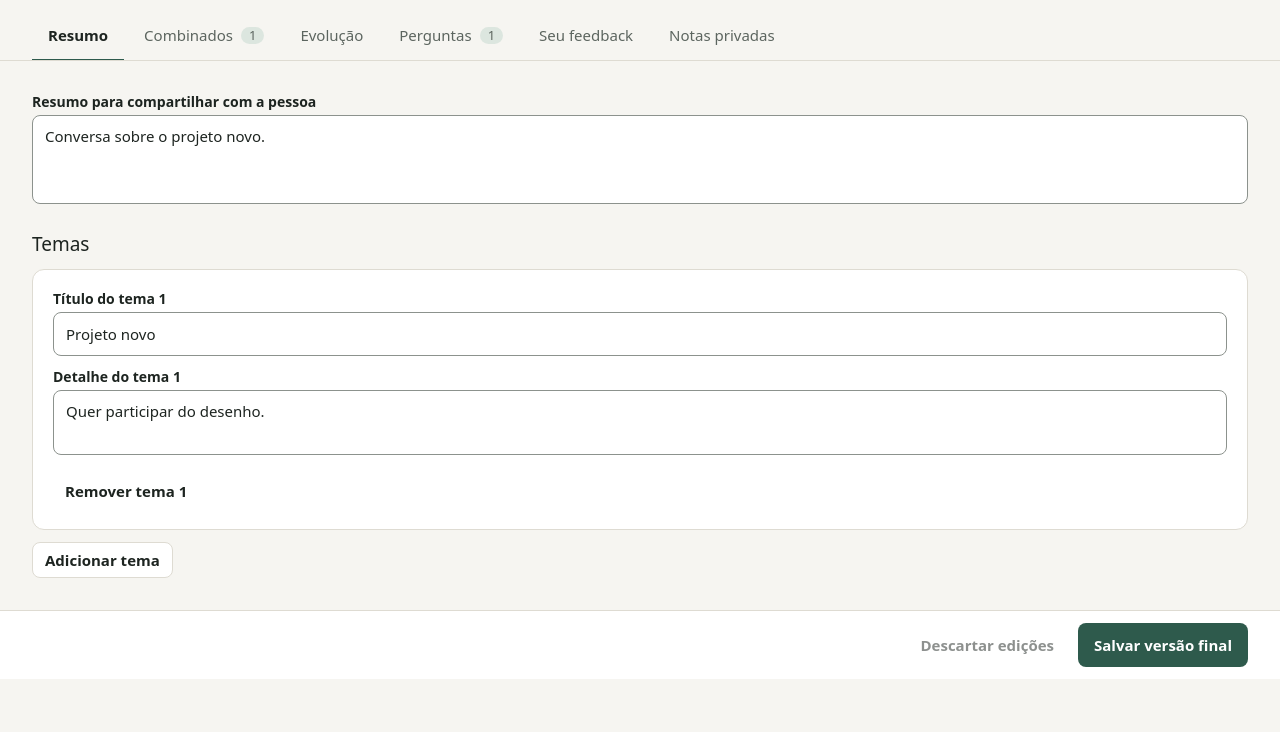
Scenario: ReviewEditor › deve descartar as edições e voltar ao conteúdo original
Check: the button "Descartar edições" is disabled, box left=904, top=623, right=1070, bottom=667
Type " extra" into the text box labelled "Resumo para compartilhar com a pessoa". click: {"x": 640, "y": 159}
box: left=32, top=115, right=1248, bottom=204
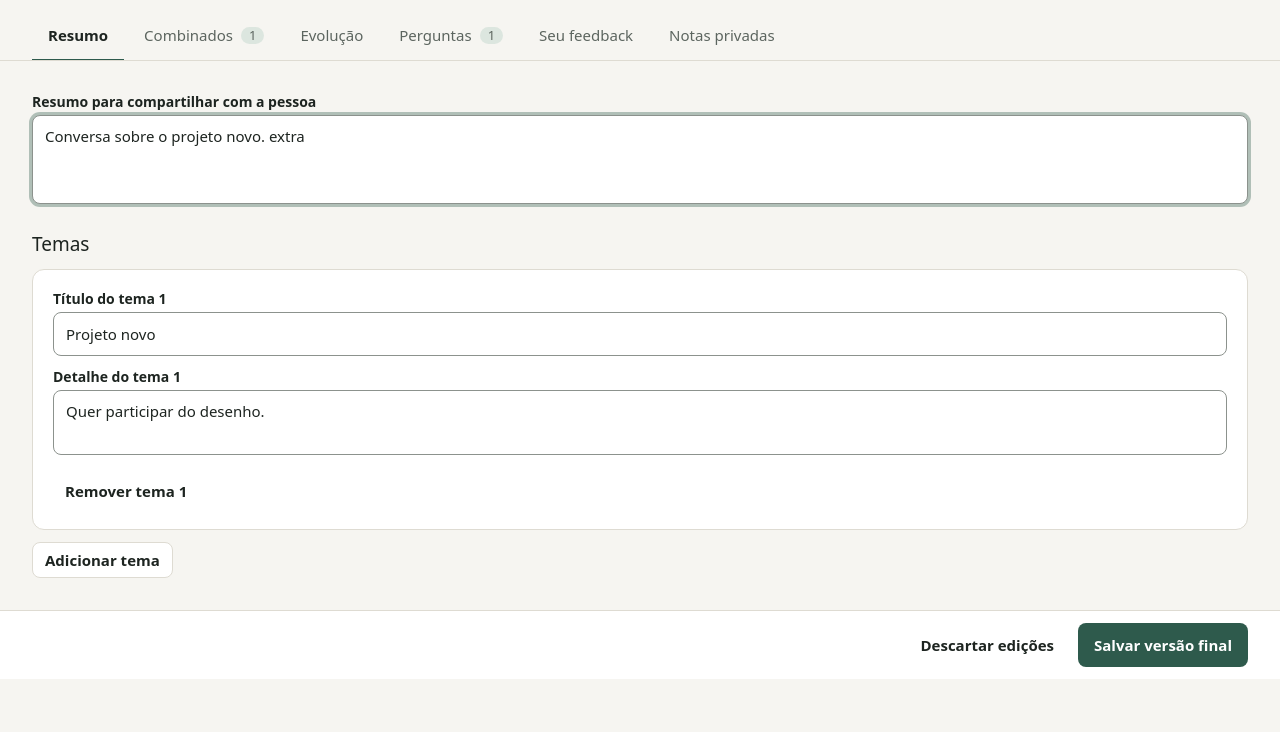
Check: the button "Descartar edições" is enabled
Click the button "Descartar edições". click: {"x": 987, "y": 645}
box: left=904, top=623, right=1070, bottom=667
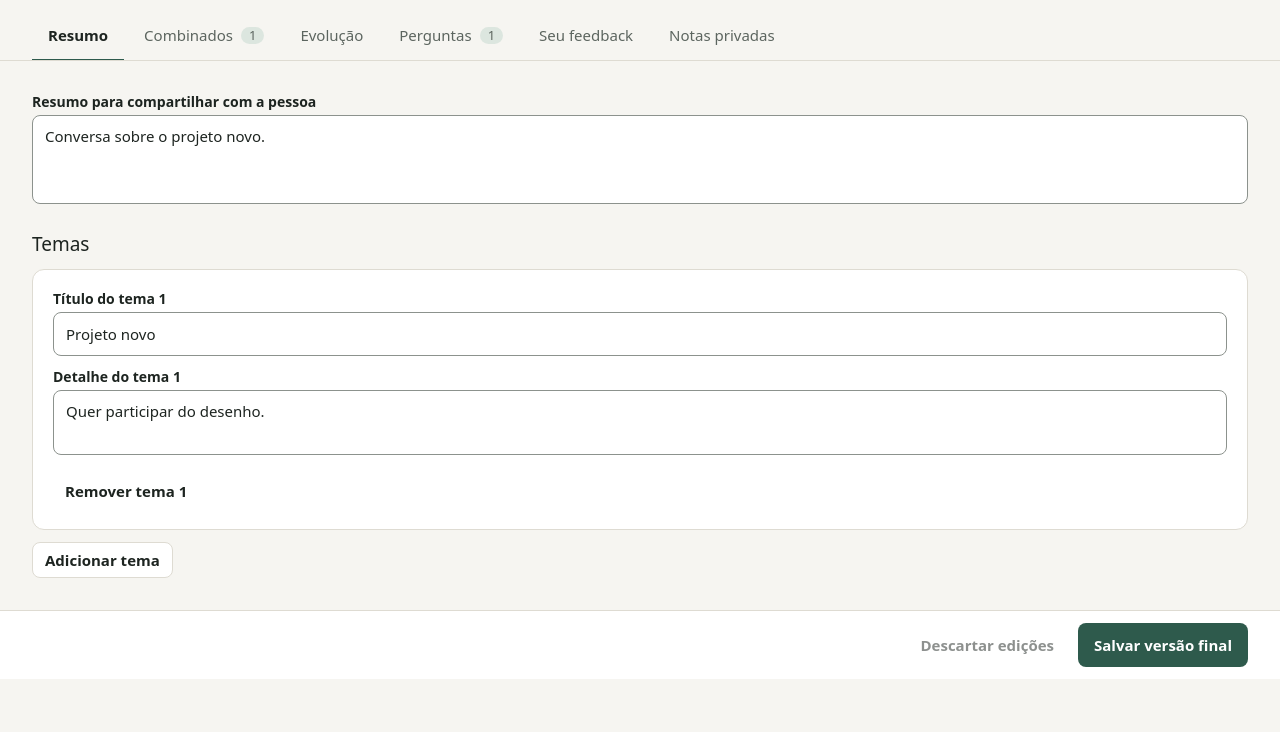
Check: the text box labelled "Resumo para compartilhar com a pessoa" holds "Conversa sobre o projeto novo.", box left=32, top=115, right=1248, bottom=204
